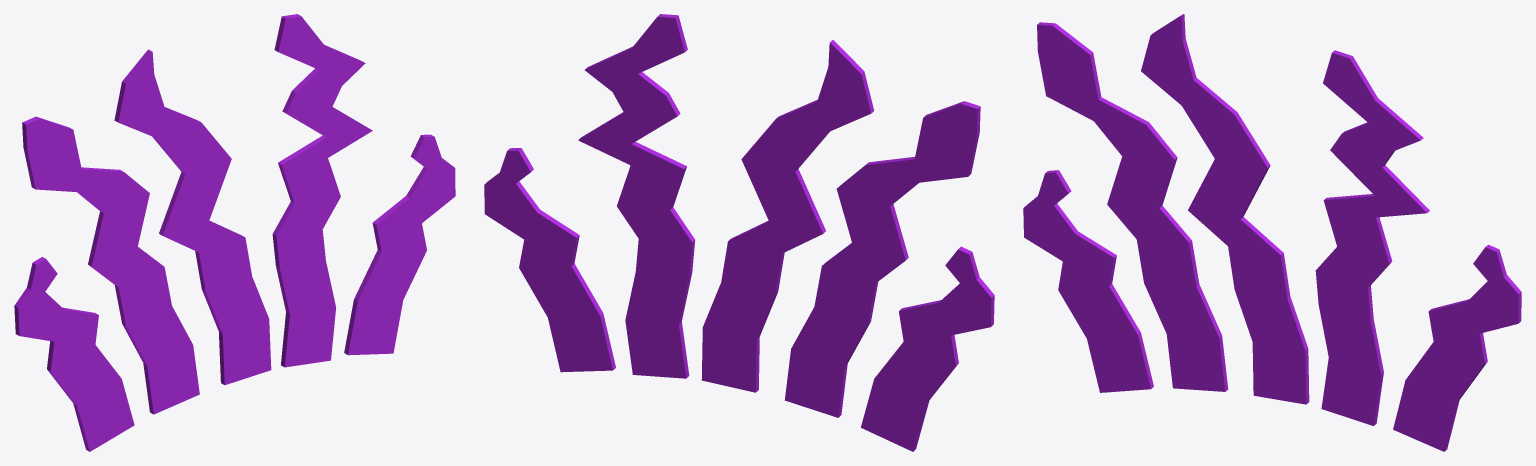
The picture shows the model from 3 angles, left to right: view 1: azimuth 30°, elevation 25°; view 2: azimuth 150°, elevation 25°; view 3: azimuth 330°, elevation 25°; orthographic projection. The views are drawn at different scales.
Visible parts, largest first — view 1: Plane.001; view 2: Plane.001; view 3: Plane.001.
Part boxes in pixels (left/top/right/bottom): Plane.001: left=14, top=14, right=455, bottom=451; Plane.001: left=484, top=14, right=994, bottom=451; Plane.001: left=1023, top=14, right=1521, bottom=451.
Size of the model in its own units: 1.07 by 0.838 by 0.1046.
